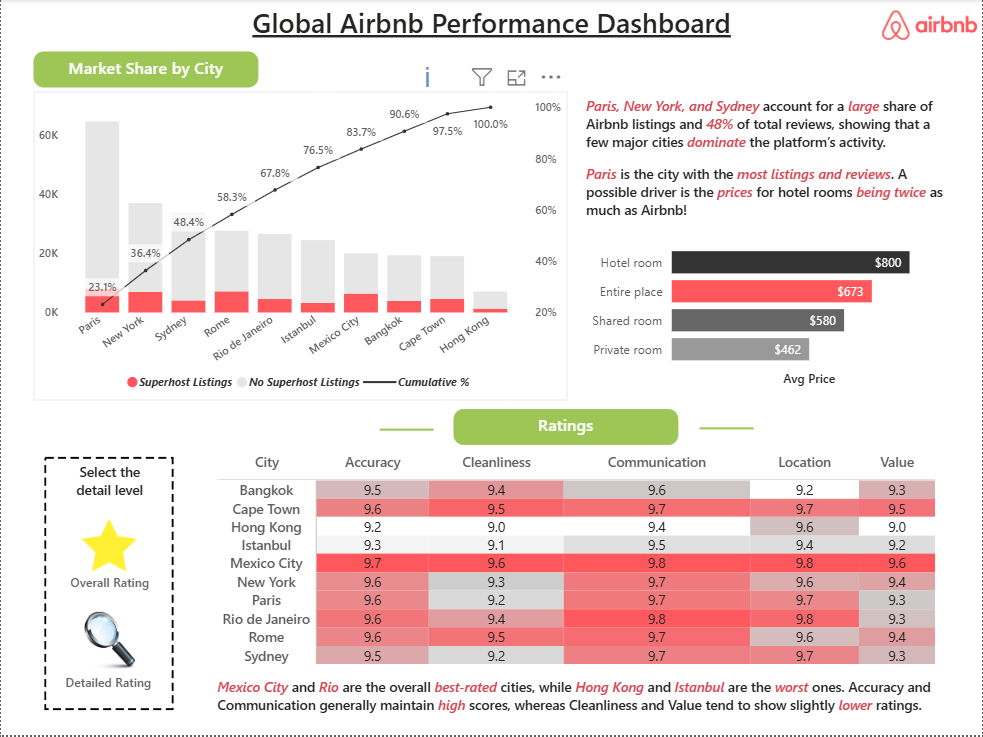

The page's visual inventory and layout, read from the dashboard file:
{"tool":"powerbi","page":{"name":"Ratings","canvas":[960,720],"ordinal":1},"visuals":[{"type":"textbox","box":[223.8,0,512.4,51.4],"z":0},{"type":"image","box":[857.2,0,102.7,51.4],"z":1000},{"type":"textbox","box":[31.8,51.4,220.1,35.5],"z":2000},{"type":"textbox","box":[567.4,90.5,363.2,66],"z":3000},{"type":"lineStackedColumnComboChart","fields":{"Category":["Listings.city"],"Y":["Listings.Superhost Listings","Listings.No Superhost Listings"],"Y2":["Listings.Cumulative %"]},"box":[31.8,91,522.1,302],"z":4000},{"type":"barChart","fields":{"Category":["Listings.room_type"],"Y":["Listings.Avg Price"]},"box":[567.4,222.6,363.2,161.4],"z":5000},{"type":"textbox","box":[567.4,156.5,363.2,66],"z":6000},{"type":"textbox","box":[443,400.6,220,35],"z":7000},{"type":"shape","box":[370.5,393.8,52.6,55],"z":8000},{"type":"shape","box":[683.6,392.5,52.6,55],"z":9000},{"type":"image","box":[30.6,439,150.4,265.4],"z":10000},{"type":"textbox","box":[61.1,448.8,90.5,56.3],"z":11000},{"type":"pivotTable","fields":{"Rows":["Listings.city"],"Values":["Listings.Accuracy","Listings.Cleanliness","Listings.Communication","Listings.Location","Listings.Value"]},"box":[206.7,439,723.9,220.1],"z":12000},{"type":"image","box":[76.7,503.8,57.5,61.1],"z":12000,"group":"g2"},{"type":"image","box":[76.5,598,57.5,61.1],"z":13000,"group":"g1"},{"type":"group","id":"g1","title":"Group 2","box":[50.1,598,110.1,84.4],"z":14000},{"type":"group","id":"g2","title":"Group 1","box":[56.3,503.8,101.5,85.6],"z":15000},{"type":"textbox","box":[56.3,555.8,100.7,34],"z":16000,"group":"g2"},{"type":"textbox","box":[206.7,659.1,723.9,50.1],"z":16000},{"type":"textbox","box":[50.1,654.2,110,28.7],"z":17000,"group":"g1"}]}

Visuals, with their boxes in screenshot pixels (x1, y1, x2, y2), scaled from the page's 960x720 canvas onto the 983x737 screenshot:
textbox: region(229, 0, 754, 53)
image: region(878, 0, 982, 53)
textbox: region(33, 53, 258, 89)
textbox: region(581, 93, 953, 160)
lineStackedColumnComboChart - Listings.city x Listings.Superhost Listings: region(33, 93, 567, 402)
barChart - Listings.room_type x Listings.Avg Price: region(581, 228, 953, 393)
textbox: region(581, 160, 953, 228)
textbox: region(454, 410, 679, 446)
shape: region(379, 403, 433, 459)
shape: region(700, 402, 754, 458)
image: region(31, 449, 185, 721)
textbox: region(63, 459, 155, 517)
pivotTable - Listings.city x Listings.Accuracy: region(212, 449, 953, 675)
image: region(79, 516, 137, 578)
image: region(78, 612, 137, 675)
"Group 2" group: region(51, 612, 164, 699)
"Group 1" group: region(58, 516, 162, 603)
textbox: region(58, 569, 161, 604)
textbox: region(212, 675, 953, 726)
textbox: region(51, 670, 164, 699)
